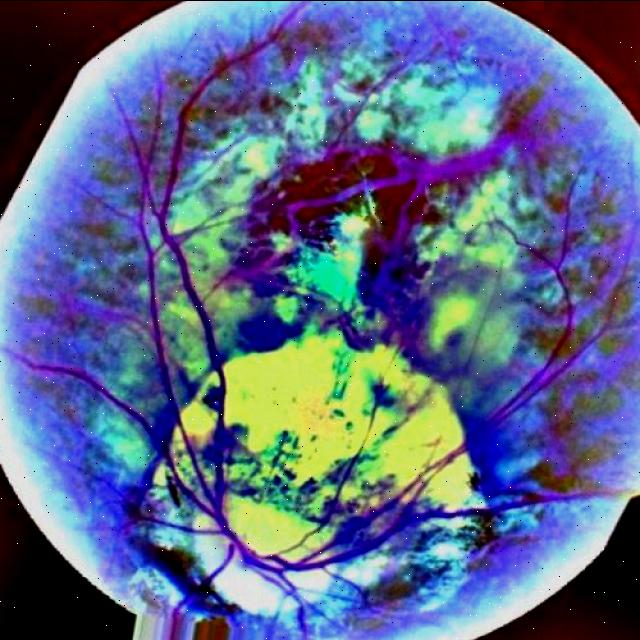Macula: (269, 161, 419, 264)
Nerves: (303, 328, 607, 567), (34, 360, 260, 565), (155, 220, 228, 505)
Optic Disk: (182, 461, 349, 614)
